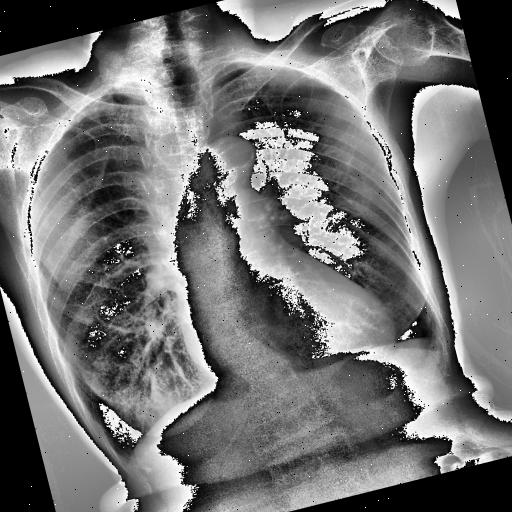0- Aortic enlargement: (196, 128, 263, 194), (190, 132, 261, 192), (198, 128, 258, 180)
10- Pleural effusion: (410, 316, 450, 366), (106, 444, 146, 476), (415, 322, 446, 354)
11- Pleural thickening: (49, 95, 106, 134), (242, 45, 302, 81), (410, 316, 450, 366), (106, 444, 146, 476), (415, 322, 446, 354), (424, 329, 448, 361), (112, 446, 138, 475)
3- Cardiomegaly: (175, 269, 403, 398), (180, 280, 396, 410)
9- Other lesion: (175, 234, 314, 438), (136, 138, 252, 368)
